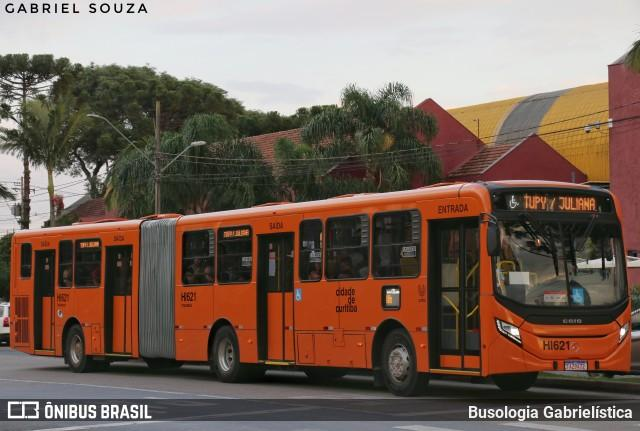TUPY JULIANA: (521, 192, 599, 214)
